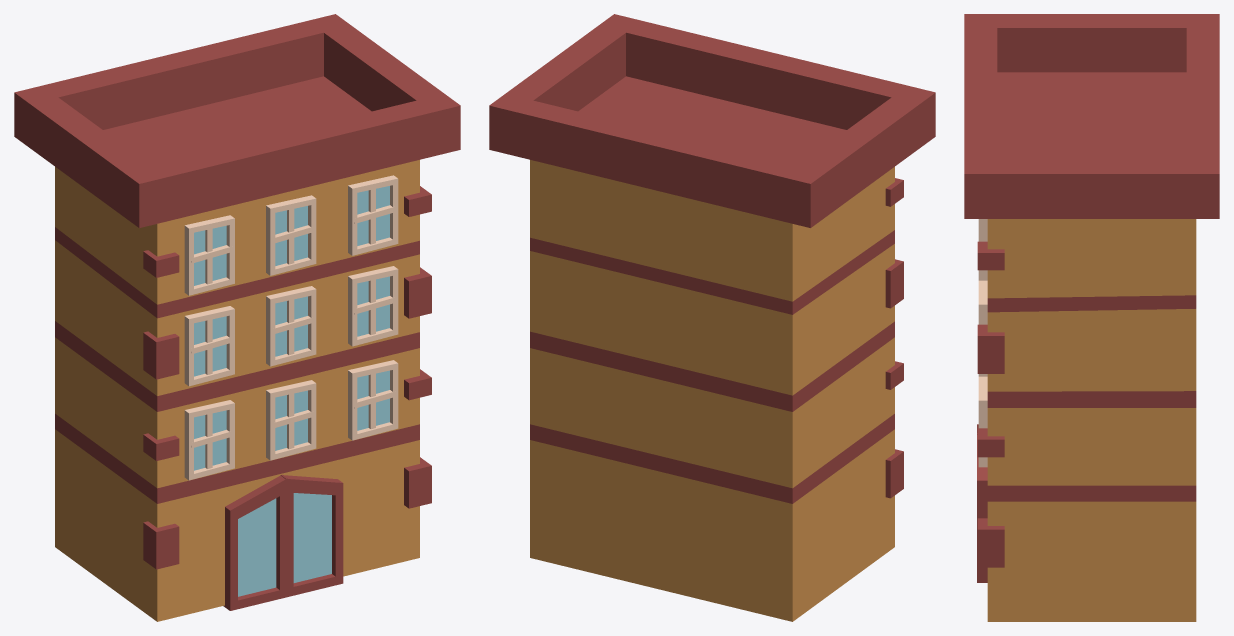
File: Brown_flat_1.fbx
3 views of the same model, side by side, from view 1: azimuth 30°, elevation 25°; view 2: azimuth 150°, elevation 25°; view 3: azimuth 270°, elevation 25° (orthographic). The views are drawn at different scales.
Visible parts, largest first — view 1: Brown flat 1; view 2: Brown flat 1; view 3: Brown flat 1.
Part boxes in pixels (box(x1,y1,x2,y2)): Brown flat 1: box(14, 14, 460, 621); Brown flat 1: box(489, 14, 935, 621); Brown flat 1: box(964, 14, 1219, 621).
Size of the model in its own units: 1417 by 1918 by 955.
